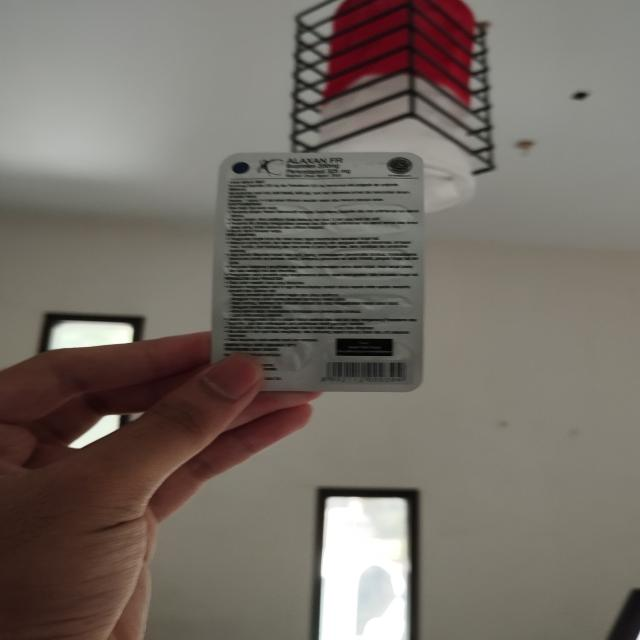B3: (211, 144, 423, 392)
